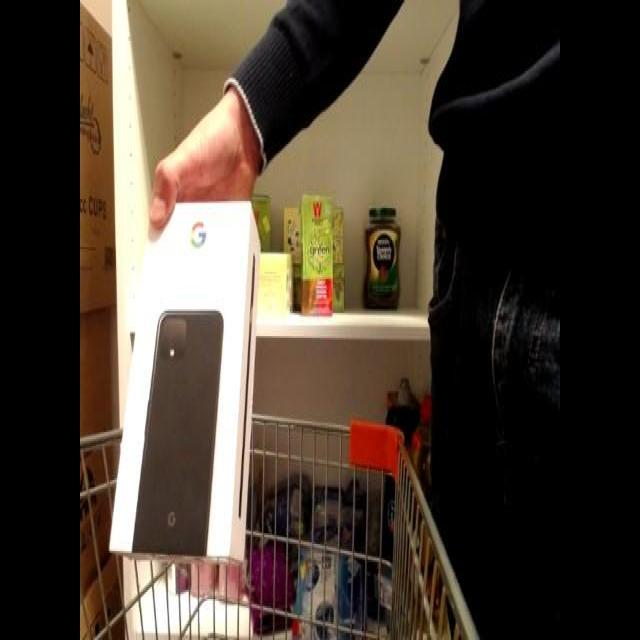Pixel 4: (102, 182, 282, 574)
